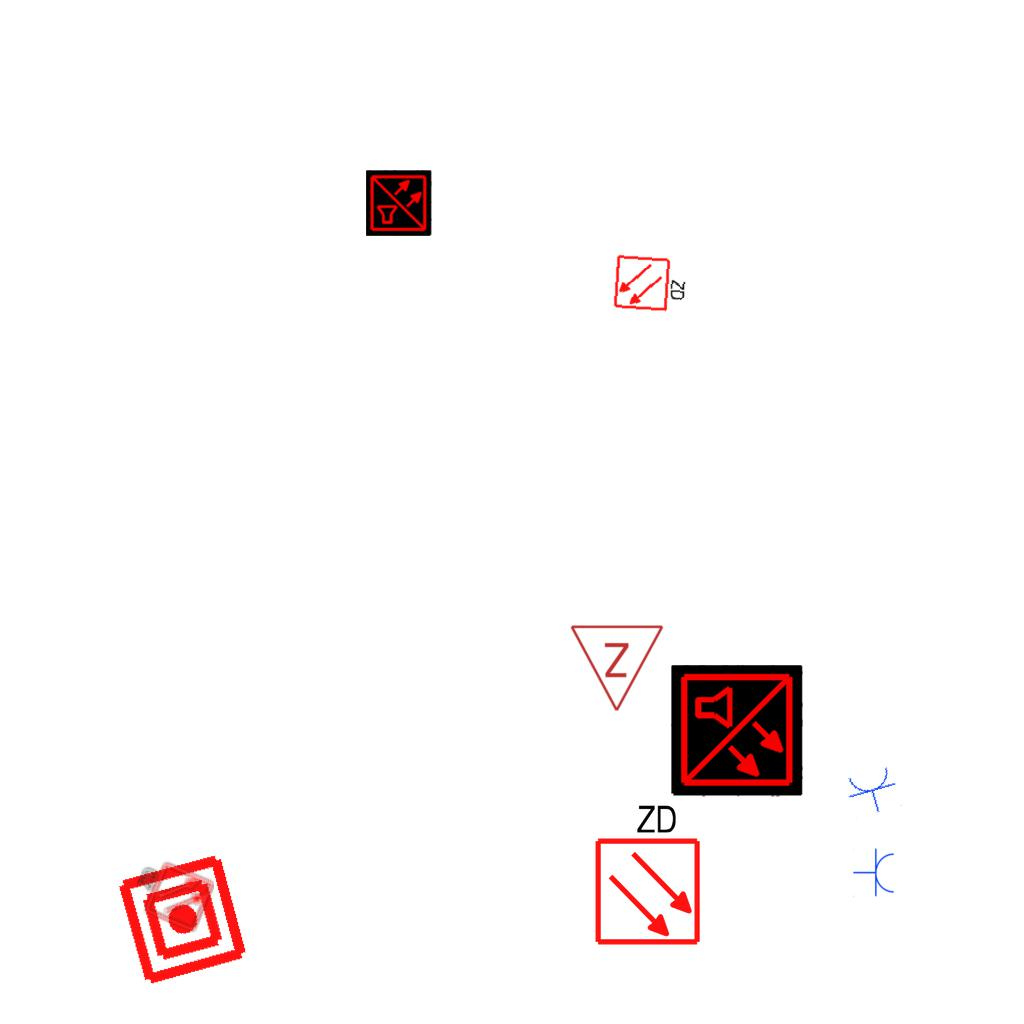NAM-Nichtautomatischer_Melder: (113, 850, 252, 989)
OKW_Multisensormelder_(Kombination_optischer_Rauch-Kahlenmonoxid_Waerme-Melder): (671, 665, 803, 797), (366, 170, 432, 236)
Schukosteckdose_einfach: (843, 763, 903, 820), (853, 848, 896, 898)
ZD_Melder_in_Zwischendecke_mit_Revisionsoeffnung_mind_40_x_40_cm: (589, 798, 703, 947), (125, 853, 216, 935), (612, 251, 691, 315)
Zimmersignalleuchte: (569, 618, 667, 718)
